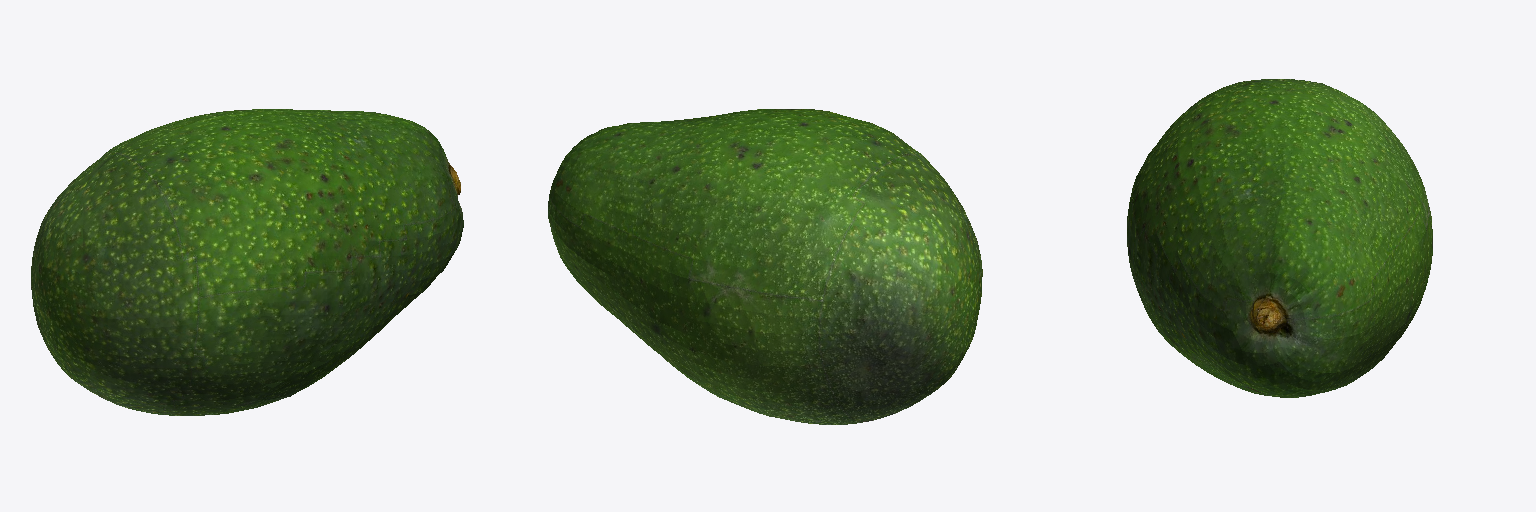
The picture shows the model from 3 angles: view 1: azimuth 30°, elevation 25°; view 2: azimuth 150°, elevation 25°; view 3: azimuth 270°, elevation 25°; orthographic projection.
Bounding box in the file's own units: 1 × 0.6465 × 0.6535.
1 materials, 1 textured.